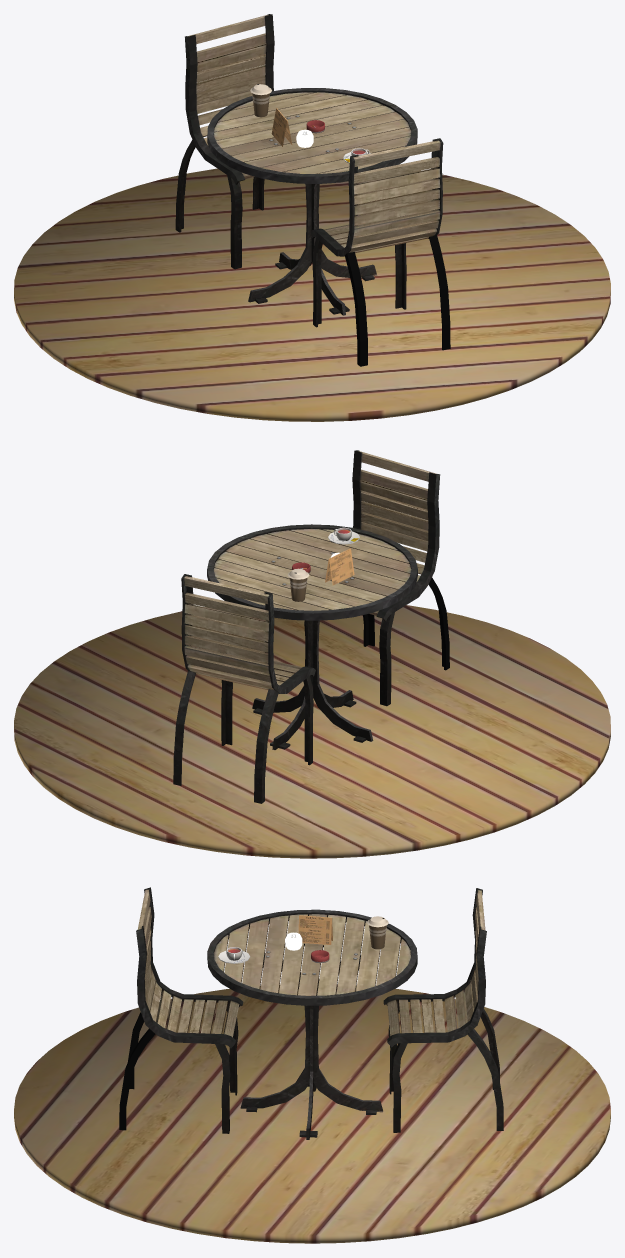
The model's file is p_cafe_set.glb.
3 renders of one model, top to bottom at view 1: azimuth 30°, elevation 25°; view 2: azimuth 150°, elevation 25°; view 3: azimuth 270°, elevation 25°, orthographic.
Visible parts, largest first — view 1: place, table, chair_1, chair_2; view 2: place, table, chair_2, chair_1, menu; view 3: place, table, chair_1, chair_2, menu, coffe -tall.
Boxes of the visible parts, bbox=[...] form: place: bbox=[14, 168, 610, 421]; table: bbox=[207, 88, 417, 315]; chair_1: bbox=[310, 138, 450, 366]; chair_2: bbox=[175, 14, 318, 269]; place: bbox=[14, 605, 610, 858]; table: bbox=[207, 524, 417, 749]; chair_2: bbox=[173, 574, 315, 803]; chair_1: bbox=[304, 450, 449, 706]; menu: bbox=[325, 548, 354, 585]; place: bbox=[14, 984, 610, 1243]; table: bbox=[207, 909, 417, 1139]; chair_1: bbox=[119, 887, 243, 1133]; chair_2: bbox=[383, 888, 503, 1132]; menu: bbox=[298, 915, 332, 946]; coffe -tall: bbox=[367, 916, 388, 949].
Bounding box in the file's own units: 3.68 × 1.42 × 3.68.
14 materials, 12 textured.
